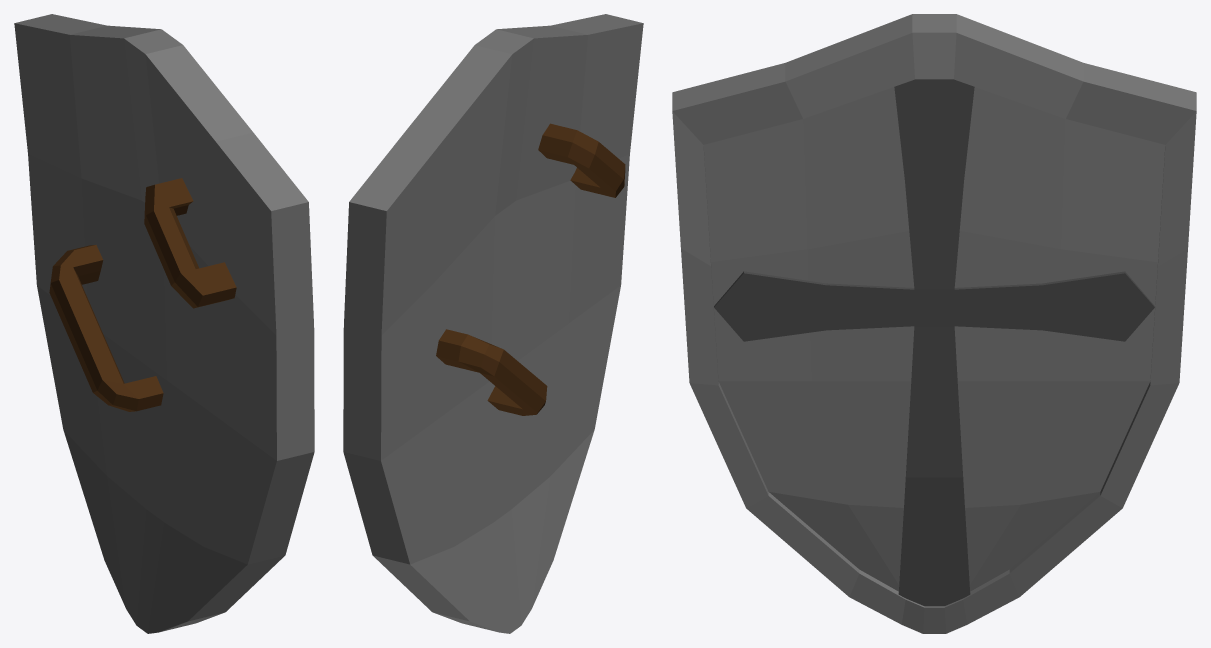
Rendered from Shield.fbx.
The picture shows the model from 3 angles, left to right: view 1: azimuth 30°, elevation 25°; view 2: azimuth 150°, elevation 25°; view 3: azimuth 270°, elevation 25°; orthographic projection. The views are drawn at different scales.
Visible parts, largest first — view 1: Shield; view 2: Shield; view 3: Shield.
Part boxes in pixels (bbox=[...]): Shield: bbox=[14, 14, 314, 633]; Shield: bbox=[343, 14, 643, 633]; Shield: bbox=[672, 14, 1196, 633].
Bounding box in the file's own units: 19.47 × 121 × 96.14.
